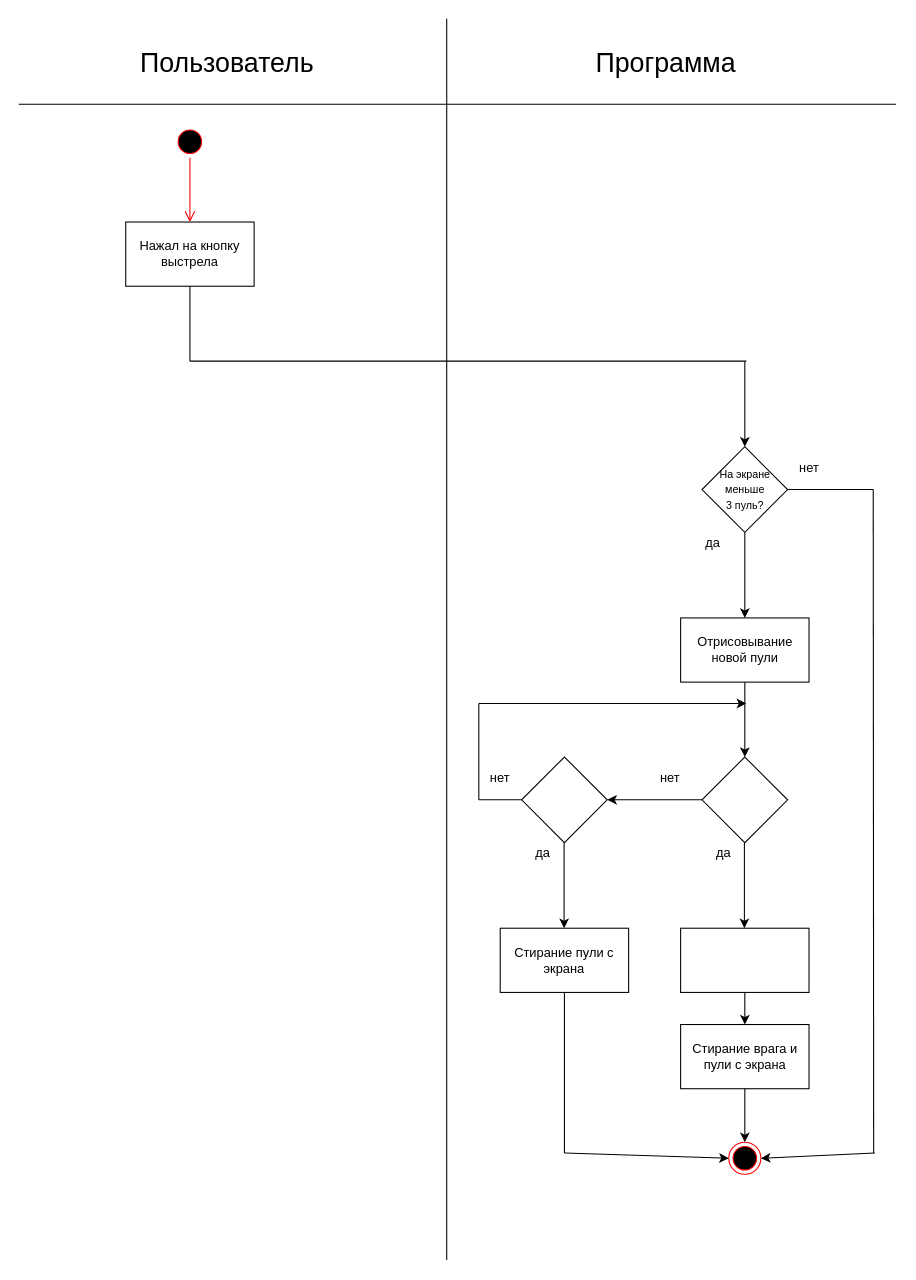
This 916x1280 diagram has some shape labels left out. The shapes that lost their labels are listed below. From the top down, each one's centre as x and y in pixels, then its label:
At (x=564, y=799): "Пуля долетела до конца?".
At (x=744, y=799): "Пуля попала во врага?".
At (x=744, y=959): "Добавление очков игроку".
